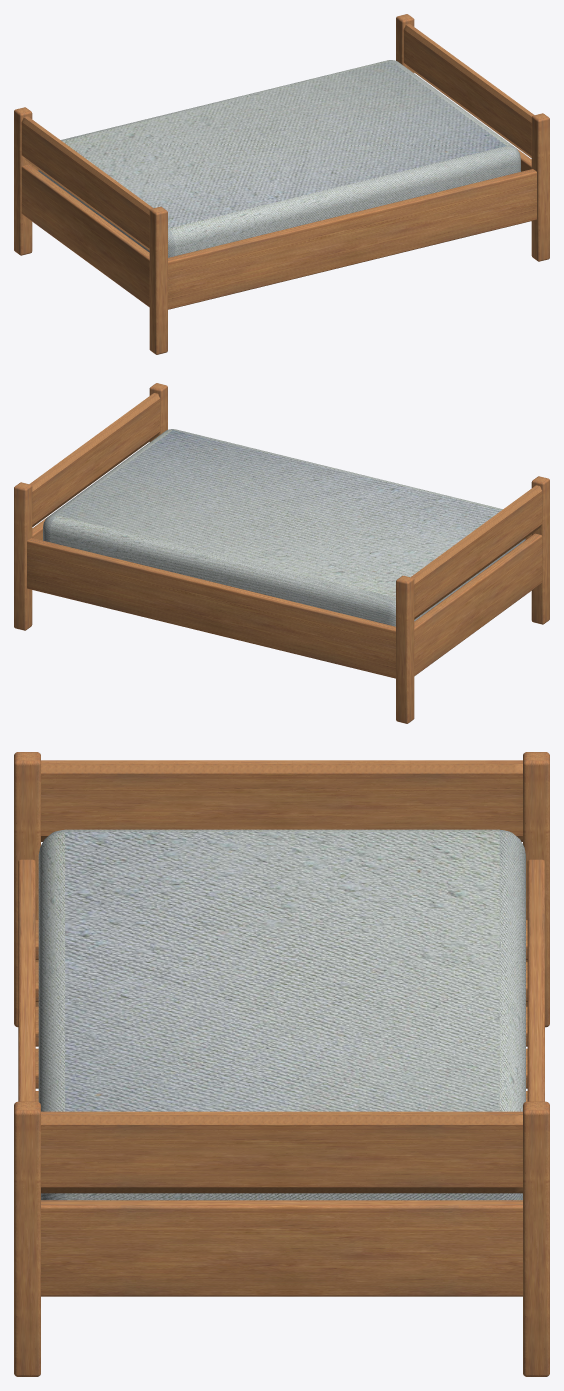
File: bed.fbx
3 renders of one model, top to bottom at view 1: azimuth 30°, elevation 25°; view 2: azimuth 150°, elevation 25°; view 3: azimuth 270°, elevation 25°, orthographic. The views are drawn at different scales.
Visible parts, largest first — view 1: mattress, Cube.2.4, Cube.2.2, Cube.3.2, Cube.3, Cube.2.3, Cube, Cube.1.2, Cube.1; view 2: mattress, Cube.3.3, Cube.2.2, Cube.3.2, Cube.3, Cube.1.2, Cube.1, Cube.2.3, Cube; view 3: mattress, Cube.2, Cube.3, Cube.3.2, Cube, Cube.1, Cube.3.3, Cube.2.4, Cube.2.3, Cube.1.2.
Part boxes in pixels (x1,y1,x2,y2): mattress: (38, 60, 520, 257); Cube.2.4: (168, 169, 536, 309); Cube.2.2: (21, 164, 149, 307); Cube.3.2: (21, 116, 152, 250); Cube.3: (403, 24, 534, 157); Cube.2.3: (149, 206, 167, 354); Cube: (531, 113, 549, 261); Cube.1.2: (14, 107, 32, 255); Cube.1: (396, 14, 414, 72); mattress: (43, 429, 525, 626); Cube.3.3: (27, 538, 395, 678); Cube.2.2: (414, 533, 542, 676); Cube.3.2: (411, 485, 542, 619); Cube.3: (29, 393, 160, 526); Cube.1.2: (396, 575, 414, 723); Cube.1: (14, 482, 32, 630); Cube.2.3: (531, 476, 549, 624); Cube: (149, 383, 167, 441); mattress: (38, 829, 525, 1200); Cube.2: (41, 1200, 522, 1296); Cube.3: (41, 1111, 522, 1193); Cube.3.2: (41, 760, 522, 841); Cube: (14, 1101, 40, 1376); Cube.1: (523, 1101, 549, 1376); Cube.3.3: (527, 859, 544, 1101); Cube.2.4: (18, 859, 35, 1101); Cube.2.3: (14, 752, 40, 1027); Cube.1.2: (523, 752, 549, 1027).
Size of the model in its own units: 2415 by 830 by 1515.
Materials: 2 (2 with a texture image).
